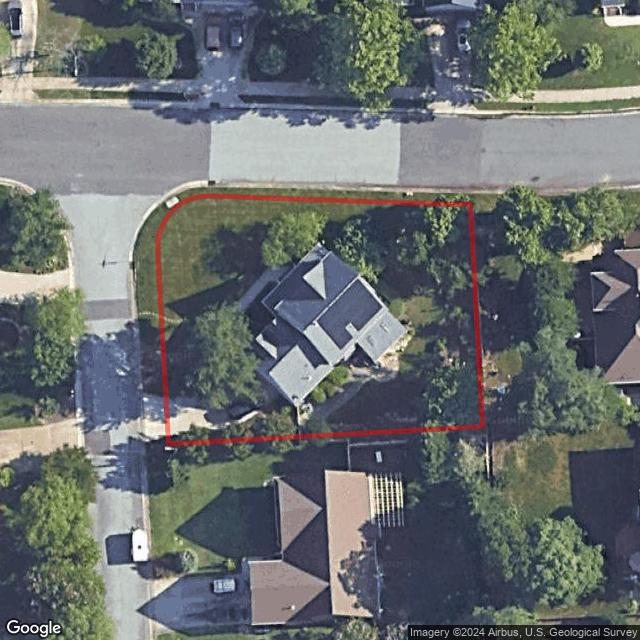Driveway: (168, 369, 281, 435)
Extra-Driveway: (142, 391, 169, 442)
Extra-Lawn: (133, 189, 471, 397), (146, 435, 168, 446)
House: (238, 241, 408, 409)
Lawn: (157, 197, 483, 444)
Other: (298, 333, 412, 420), (236, 266, 294, 312)
